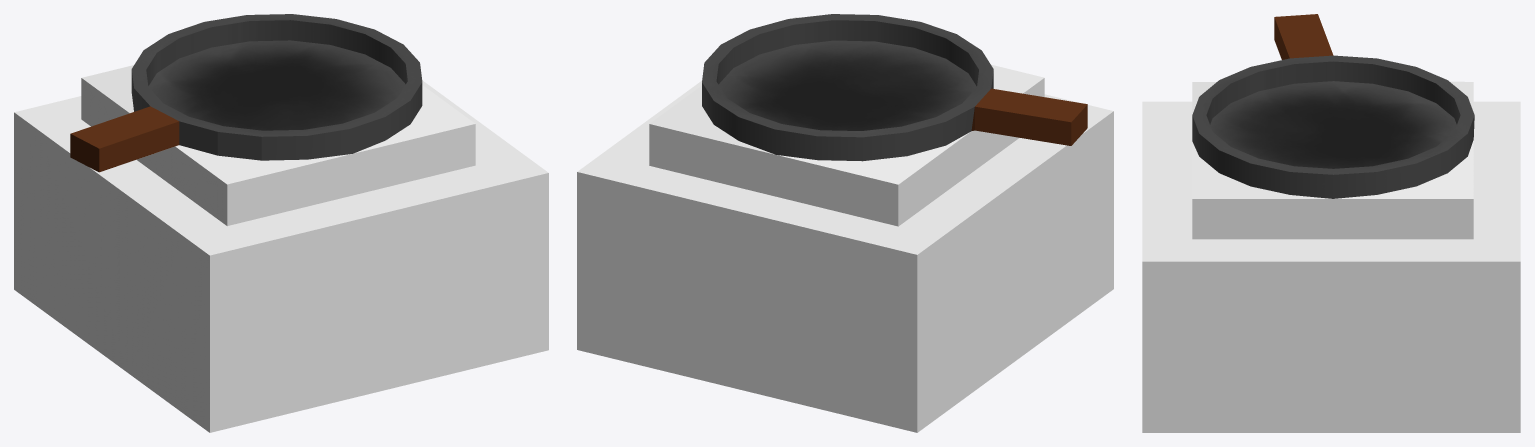
File: Pan.obj
The picture shows the model from 3 angles, left to right: view 1: azimuth 30°, elevation 25°; view 2: azimuth 150°, elevation 25°; view 3: azimuth 270°, elevation 25°; orthographic projection. The views are drawn at different scales.
Parts seen in each view (by area): view 1: Pan:pasted__pasted__pCylinder2pasted__group5group6; view 2: Pan:pasted__pasted__pCylinder2pasted__group5group6; view 3: Pan:pasted__pasted__pCylinder2pasted__group5group6.
Part boxes in pixels (bbox=[...]): Pan:pasted__pasted__pCylinder2pasted__group5group6: bbox=[14, 14, 548, 432]; Pan:pasted__pasted__pCylinder2pasted__group5group6: bbox=[577, 14, 1113, 432]; Pan:pasted__pasted__pCylinder2pasted__group5group6: bbox=[1142, 14, 1520, 432].
Bounding box in the file's own units: 1.14 × 0.6895 × 1.
Materials: 1 (1 with a texture image).
